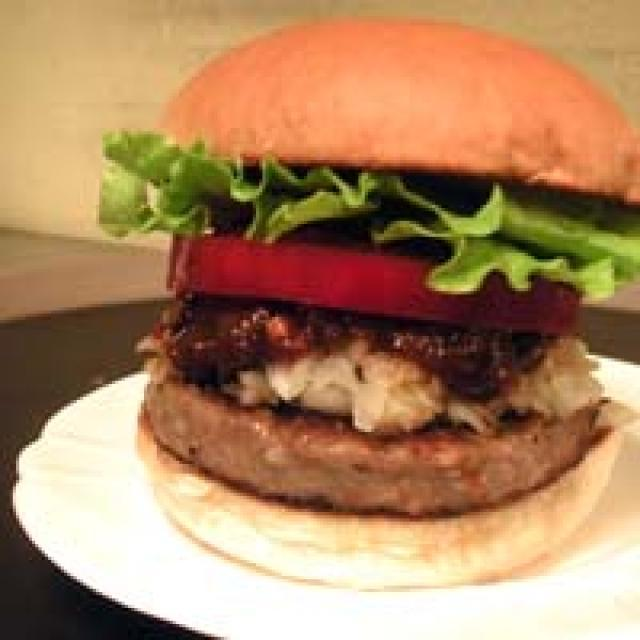Hamburger: (75, 7, 640, 570)
